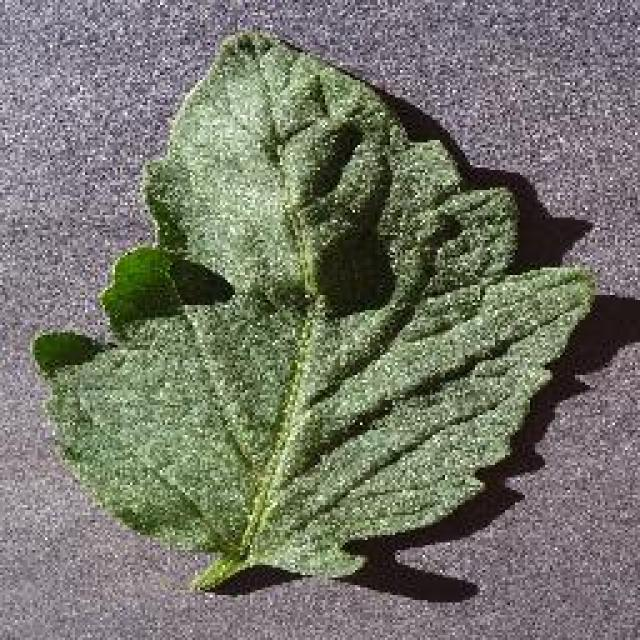Tomato_Healthy: (19, 18, 603, 589)
